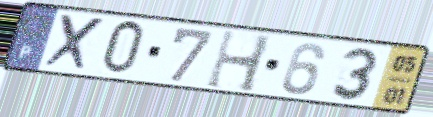0: (98, 18, 148, 80)
3: (331, 45, 381, 103)
6: (280, 41, 327, 96)
7: (169, 25, 216, 85)
H: (202, 27, 276, 95)
X: (41, 12, 110, 74)
